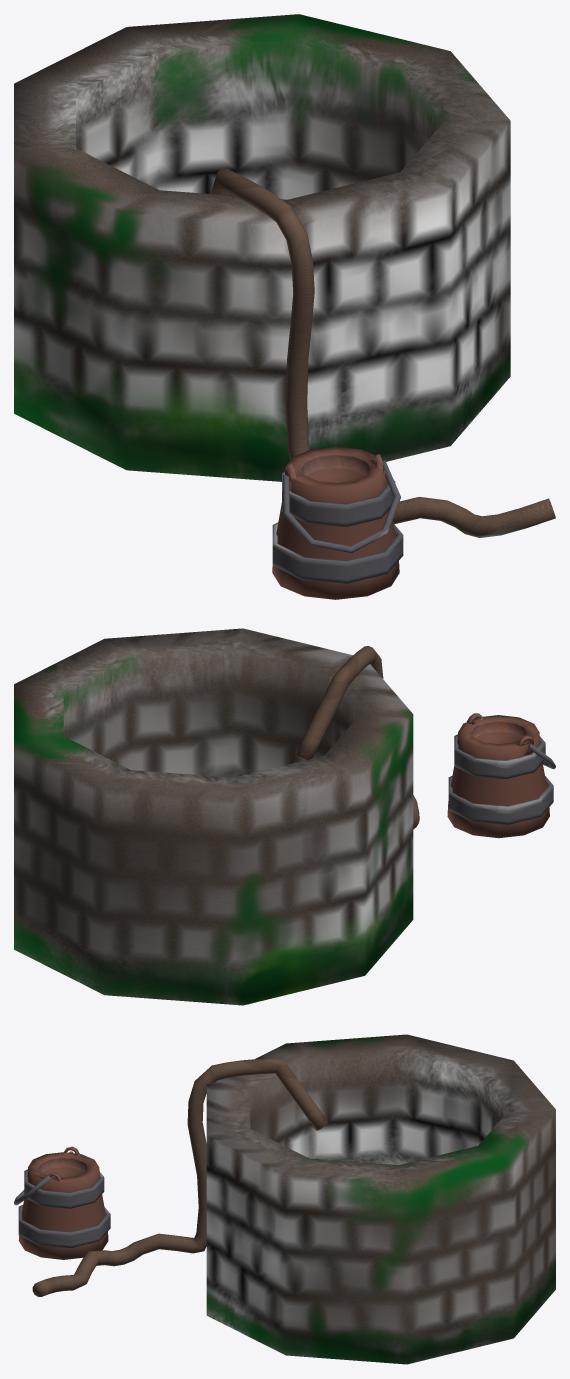
The model's file is Pozo.obj.
3 renders of one model, top to bottom at view 1: azimuth 30°, elevation 25°; view 2: azimuth 150°, elevation 25°; view 3: azimuth 270°, elevation 25°, orthographic. The views are drawn at different scales.
Visible parts, largest first — view 1: pozo, Loft008, Loft006, pozo001, pozo002, Loft007; view 2: pozo, Loft006, Loft008, pozo001, pozo002; view 3: pozo, Loft008, Loft006, pozo001, pozo002.
Boxes of the visible parts, x1,y1,x2,y2 form: pozo: (14,14,510,481); Loft008: (211,168,555,537); Loft006: (272,446,399,599); pozo001: (272,522,403,583); pozo002: (282,472,395,526); Loft007: (283,460,400,553); pozo: (14,628,413,1005); Loft006: (447,713,549,838); Loft008: (295,646,419,829); pozo001: (448,776,553,824); pozo002: (454,734,545,778); pozo: (206,1034,555,1364); Loft008: (32,1057,328,1296); Loft006: (18,1146,108,1259); pozo001: (18,1205,110,1248); pozo002: (24,1169,104,1208).
Bounding box in the file's own units: 45.67 × 28.12 × 69.76.
